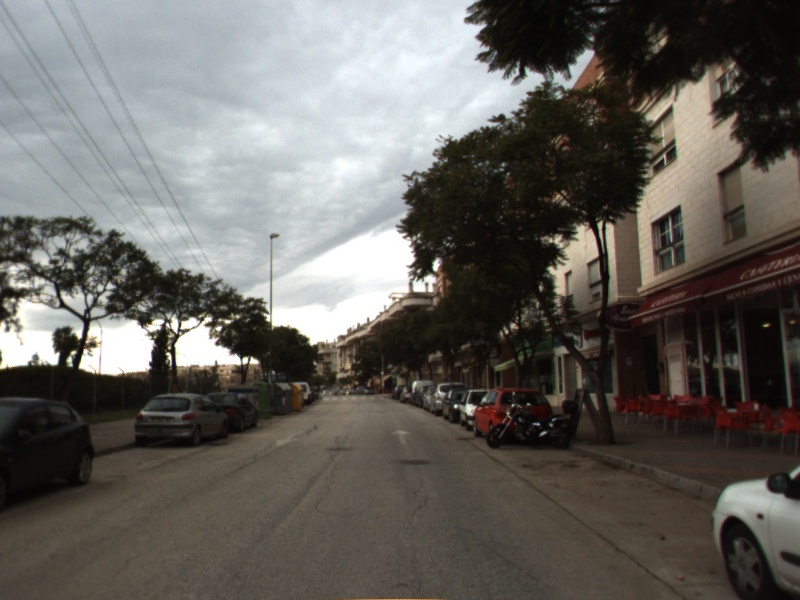STRAIGHT: (389, 427, 415, 446)
